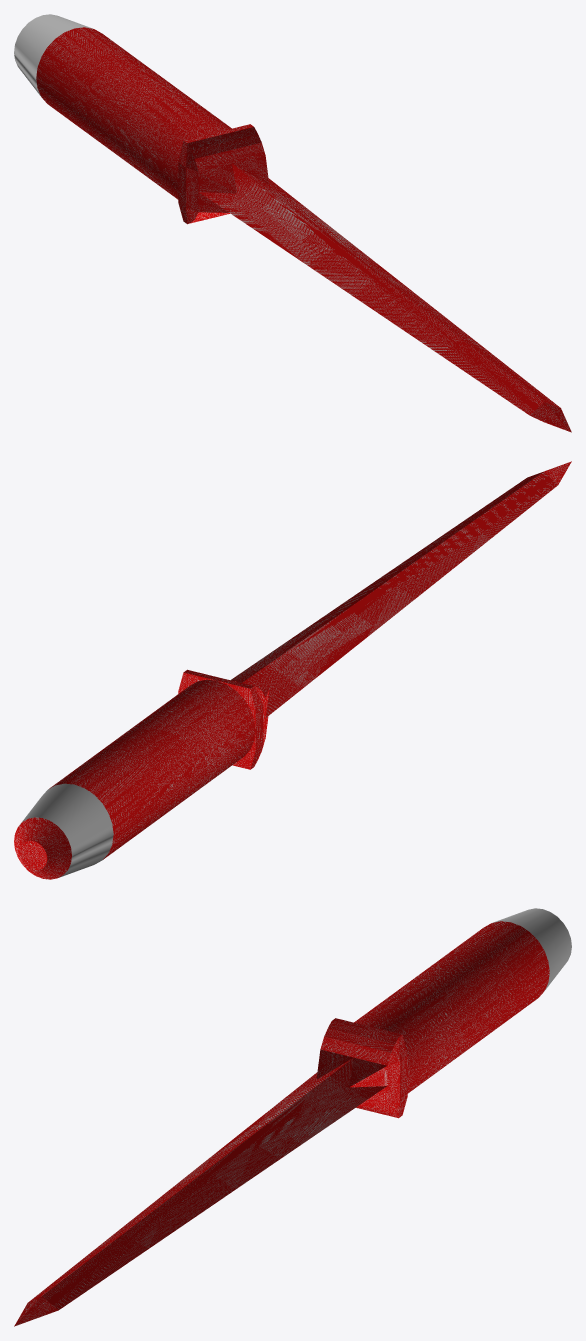
Rendered from model_scale.obj.
3 views of the same model, one above another, from view 1: azimuth 30°, elevation 25°; view 2: azimuth 150°, elevation 25°; view 3: azimuth 330°, elevation 25° (orthographic).
Parts seen in each view (by area): view 1: mesh1_mesh1-geometry; view 2: mesh1_mesh1-geometry; view 3: mesh1_mesh1-geometry.
Part boxes in pixels (x1,y1,x2,y2): mesh1_mesh1-geometry: (14, 14, 571, 432); mesh1_mesh1-geometry: (14, 461, 571, 879); mesh1_mesh1-geometry: (14, 908, 571, 1326).
Bounding box in the file's own units: 0.0189 × 0.0189 × 0.2273.
